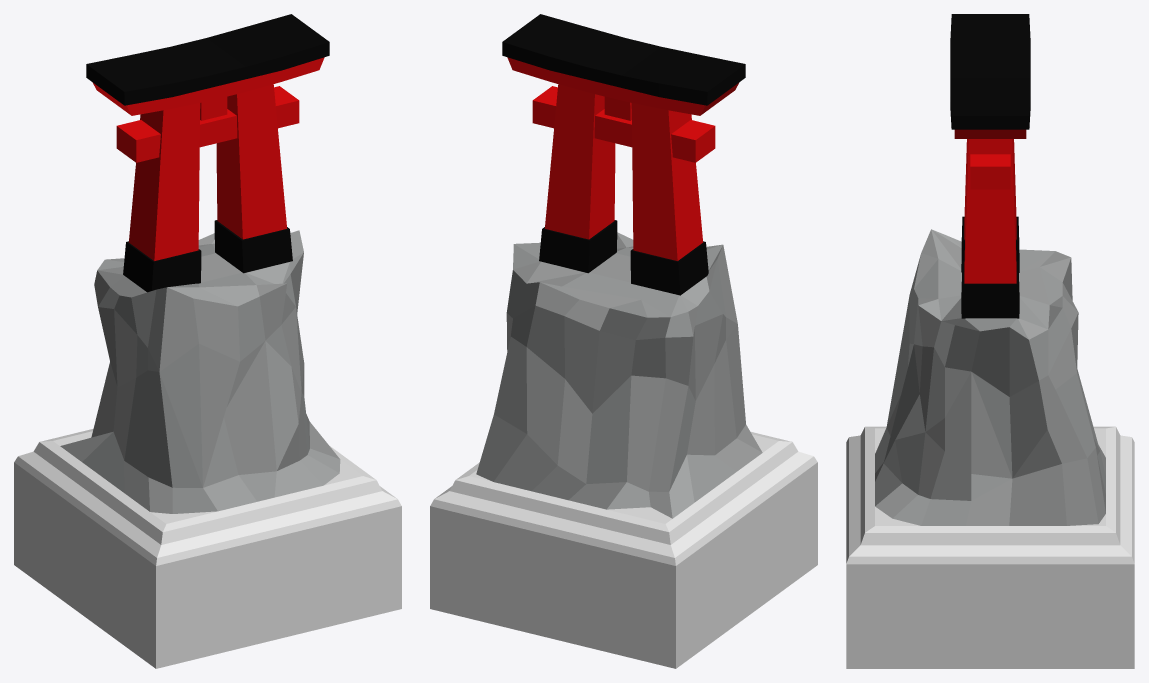
File: Torii(Bishop).fbx
The picture shows the model from 3 angles, left to right: view 1: azimuth 30°, elevation 25°; view 2: azimuth 150°, elevation 25°; view 3: azimuth 270°, elevation 25°; orthographic projection.
Parts seen in each view (by area): view 1: Torii; view 2: Torii; view 3: Torii.
Boxes of the visible parts, <box> form: Torii: <box>14,14,401,668</box>; Torii: <box>430,14,817,668</box>; Torii: <box>846,14,1134,668</box>.
Bounding box in the file's own units: 200 × 415 × 200.
